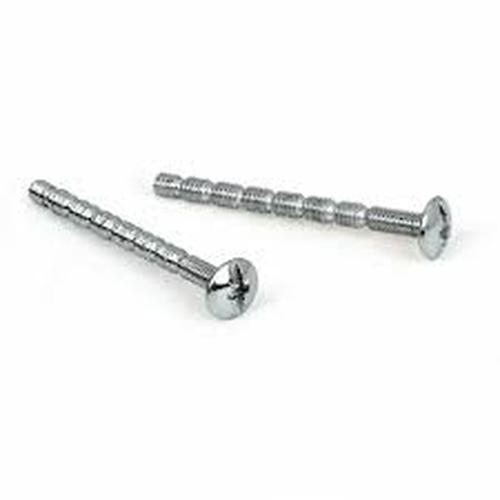Tornillo: (24, 177, 261, 321), (149, 166, 455, 263)
